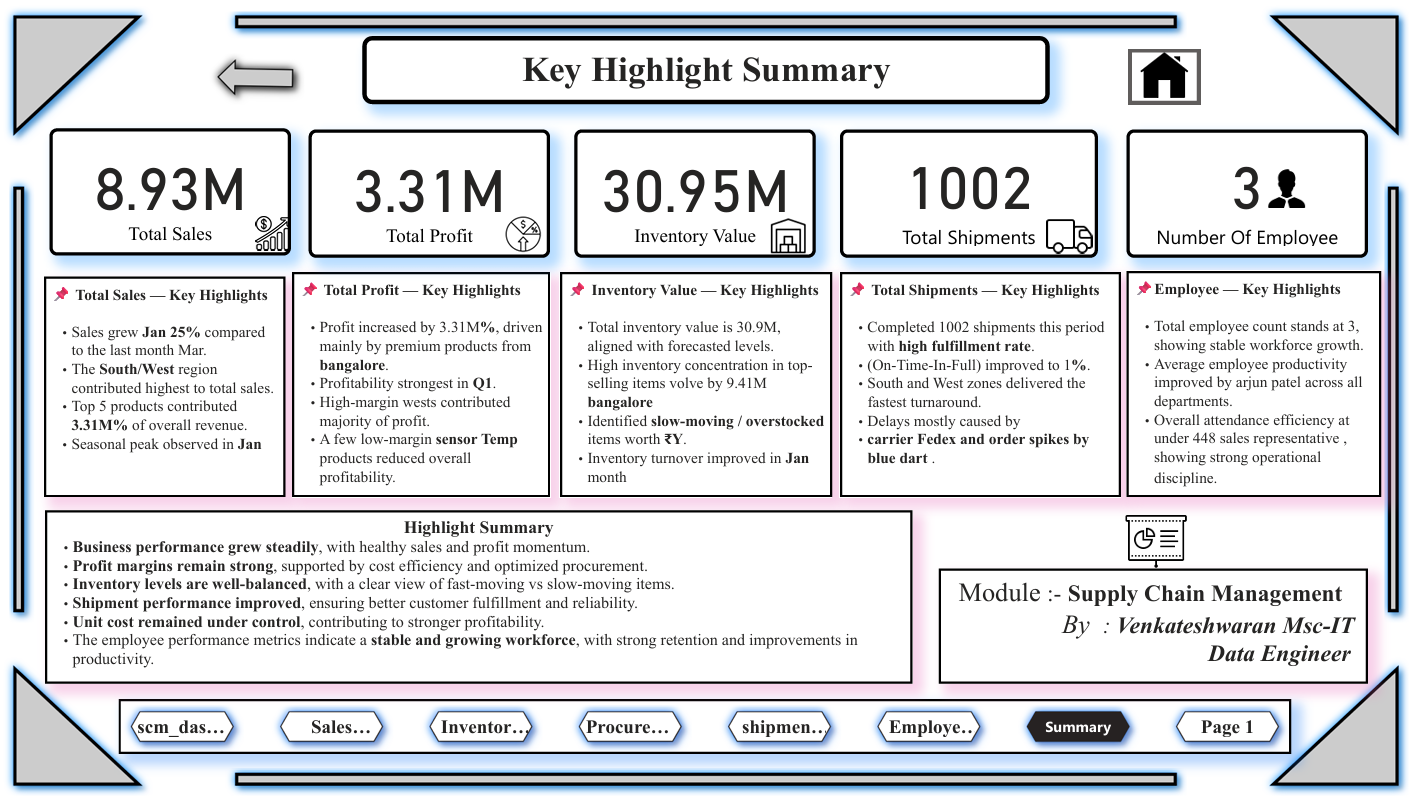

The dashboard page shown, as its layout file describes it:
{"tool":"powerbi","page":{"name":"Summary","canvas":[1280,720],"ordinal":6},"visuals":[{"type":"shape","box":[0,0,136,128],"z":0},{"type":"shape","box":[202,0,876,30],"z":1000},{"type":"shape","box":[1144,0,136,128],"z":2000},{"type":"shape","box":[1252,156,28,406],"z":3000},{"type":"shape","box":[1144,592,136,128],"z":4000},{"type":"shape","box":[202,690,876,30],"z":5000},{"type":"shape","box":[0,592,136,128],"z":6000},{"type":"shape","box":[0,156,28,406],"z":7000},{"type":"pageNavigator","box":[105,631.7,1068.3,50],"z":8000},{"type":"shape","box":[184.6,40.5,89.1,50.2],"z":9000},{"type":"actionButton","box":[1025,40,65,50],"z":10000},{"type":"image","box":[1025,36.7,65,55],"z":11000},{"type":"textbox","box":[326.7,28.3,626.7,61.7],"z":12000},{"type":"card","fields":{"Values":["dim_customer.Total Sales"]},"box":[41.7,111.7,220,116.7],"z":13000},{"type":"textbox","box":[36.7,246.7,220,201.7],"z":14000},{"type":"image","box":[218.3,186.7,55,41.7],"z":15000},{"type":"textbox","box":[263.3,243.3,235,205],"z":16000},{"type":"card","fields":{"Values":["dim_customer.Inventory Value"]},"box":[520,113.3,220,116.7],"z":17000},{"type":"image","box":[690,186.7,50,46.7],"z":18000},{"type":"textbox","box":[506.7,243.3,248.3,205],"z":19000},{"type":"card","fields":{"Values":["dim_customer.Procurement Spend"]},"box":[761.7,113.3,235,116.7],"z":20000},{"type":"card","fields":{"Values":["dim_employee.Number Of Employee"]},"box":[1023.3,113.3,220,116.7],"z":21000},{"type":"textbox","box":[761.7,243.3,256.7,205],"z":22000},{"type":"textbox","box":[1023.3,241.7,231.7,206.7],"z":23000},{"type":"card","fields":{"Values":["dim_customer.Total Profit"]},"box":[278.3,113.3,220,116.7],"z":24000},{"type":"image","box":[448.3,186.7,50,43.3],"z":25000},{"type":"textbox","box":[38.3,460,790,158.3],"z":26000},{"type":"textbox","box":[851.7,513.3,391.7,105],"z":27000},{"type":"image","box":[1006.7,450,85,71.7],"z":28000},{"type":"image","box":[945,176.7,51.7,56.7],"z":28001},{"type":"image","box":[1143.3,138.3,51.7,56.7],"z":28002}]}

Visuals, with their boxes in screenshot pixels (x1, y1, x2, y2), scaled from the page's 1280x720 canvas onto the 1419x805 screenshot:
shape: (0, 0, 151, 143)
shape: (224, 0, 1195, 34)
shape: (1268, 0, 1418, 143)
shape: (1388, 174, 1418, 628)
shape: (1268, 662, 1418, 804)
shape: (224, 771, 1195, 804)
shape: (0, 662, 151, 804)
shape: (0, 174, 31, 628)
pageNavigator: (116, 706, 1301, 762)
shape: (205, 45, 303, 101)
actionButton: (1136, 45, 1208, 101)
image: (1136, 41, 1208, 103)
textbox: (362, 32, 1057, 101)
card - dim_customer.Total Sales: (46, 125, 290, 255)
textbox: (41, 276, 285, 501)
image: (242, 209, 303, 255)
textbox: (292, 272, 552, 501)
card - dim_customer.Inventory Value: (576, 127, 820, 257)
image: (765, 209, 820, 261)
textbox: (562, 272, 837, 501)
card - dim_customer.Procurement Spend: (844, 127, 1105, 257)
card - dim_employee.Number Of Employee: (1134, 127, 1378, 257)
textbox: (844, 272, 1129, 501)
textbox: (1134, 270, 1391, 501)
card - dim_customer.Total Profit: (309, 127, 552, 257)
image: (497, 209, 552, 257)
textbox: (42, 514, 918, 691)
textbox: (944, 574, 1378, 691)
image: (1116, 503, 1210, 583)
image: (1048, 198, 1105, 261)
image: (1267, 155, 1325, 218)
